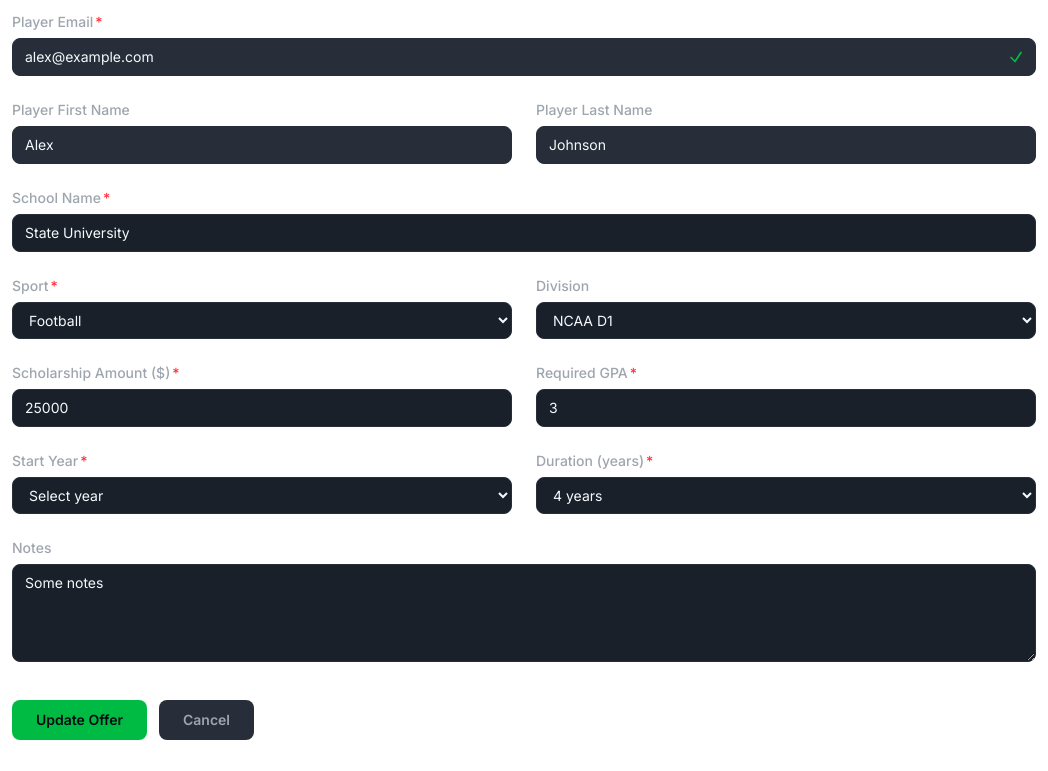
Scenario: ScholarshipForm — submission › shows server error message on API failure
Click the button "Update Offer" at [80, 720], box [12,700,147,740]
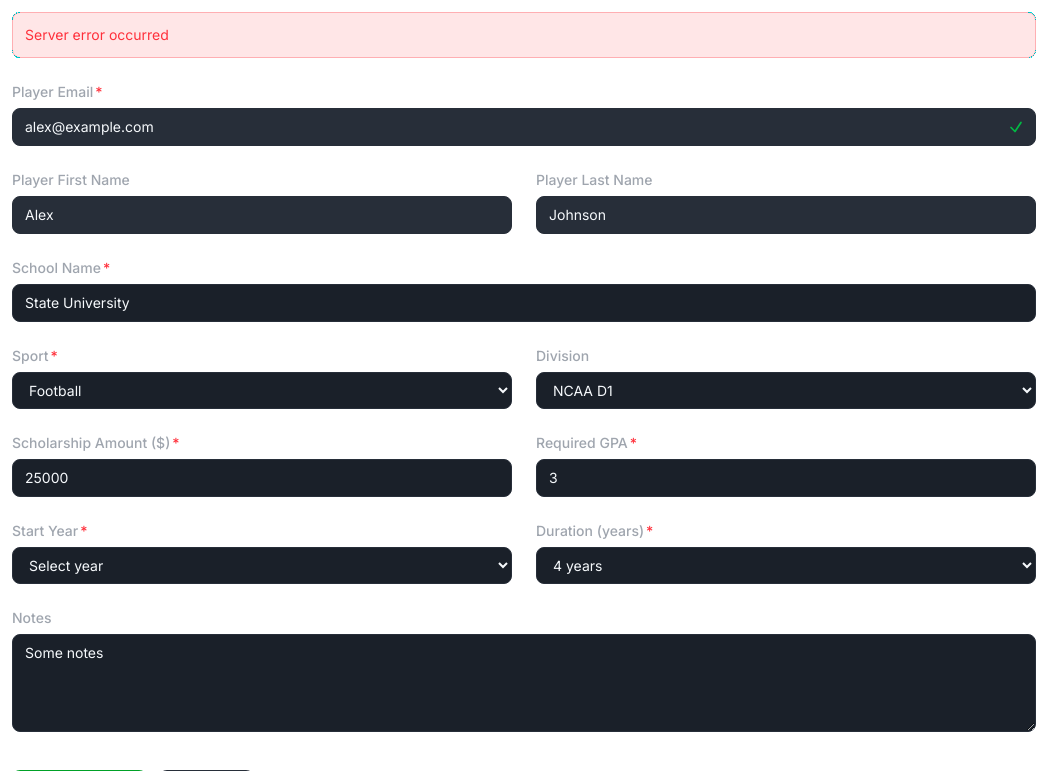
Expected: the text "Server error occurred" is shown, [12,12,1036,58]
